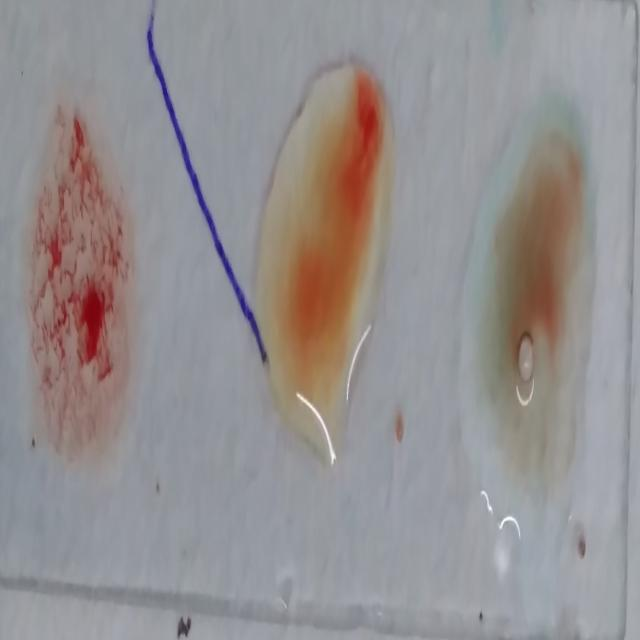D: (32, 104, 132, 446)
